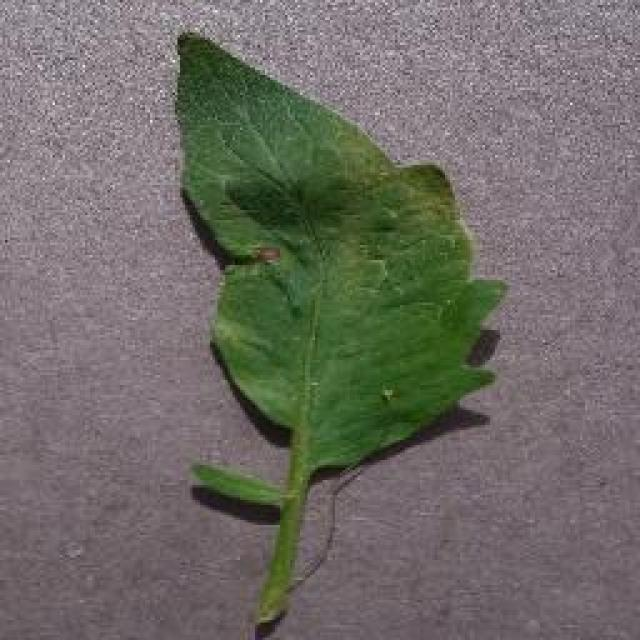Tom_Target_Spot: (238, 225, 294, 280)
